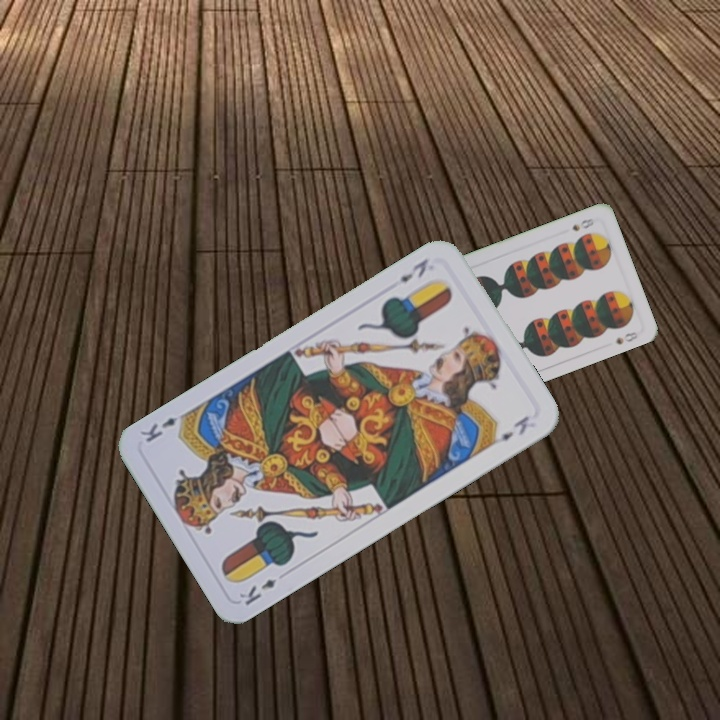EK: (235, 575, 279, 608), (395, 254, 431, 285)
S8: (568, 214, 597, 233)
